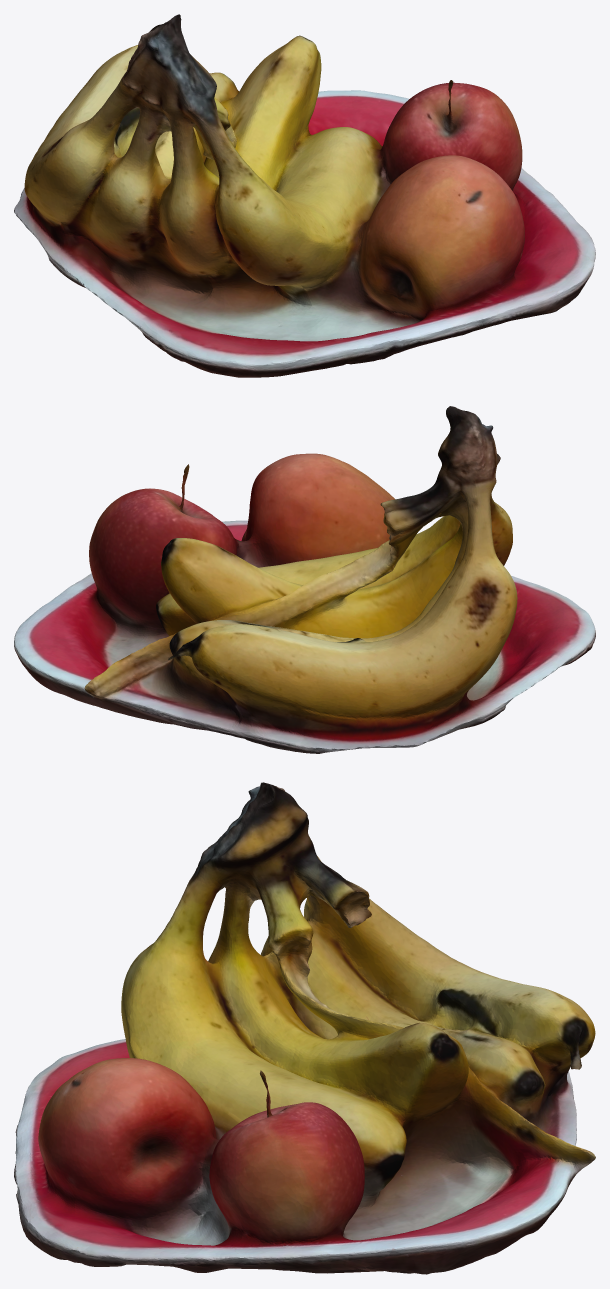
3 renders of one model, top to bottom at view 1: azimuth 30°, elevation 25°; view 2: azimuth 150°, elevation 25°; view 3: azimuth 270°, elevation 25°, orthographic. The views are drawn at different scales.
Size of the model in its own units: 0.7414 by 0.4686 by 0.7432.
Materials: 1 (1 with a texture image).
